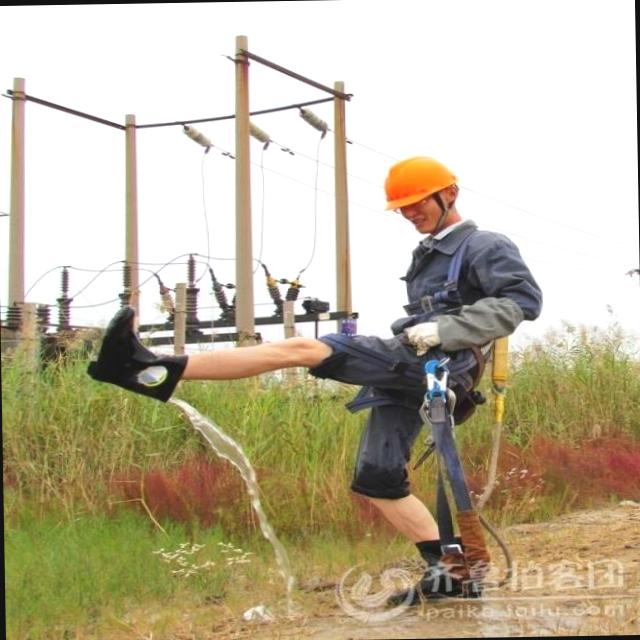helmet: (373, 153, 463, 222)
no-vest: (394, 230, 519, 338)
